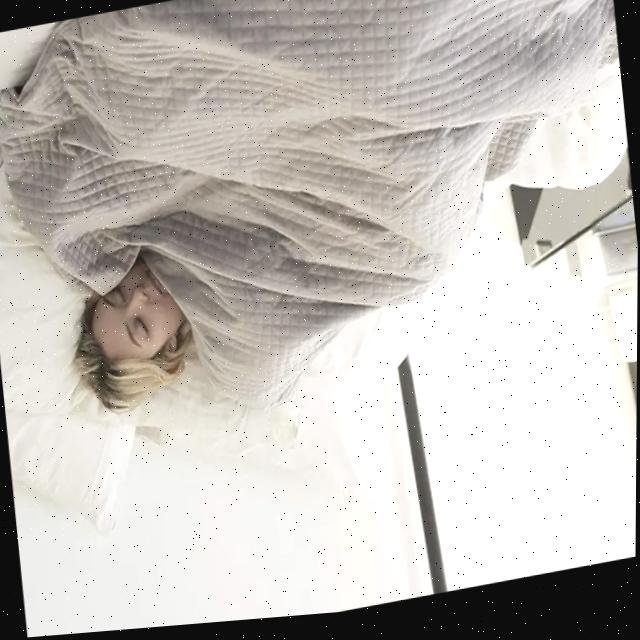sleeping-person: (10, 0, 640, 476)
